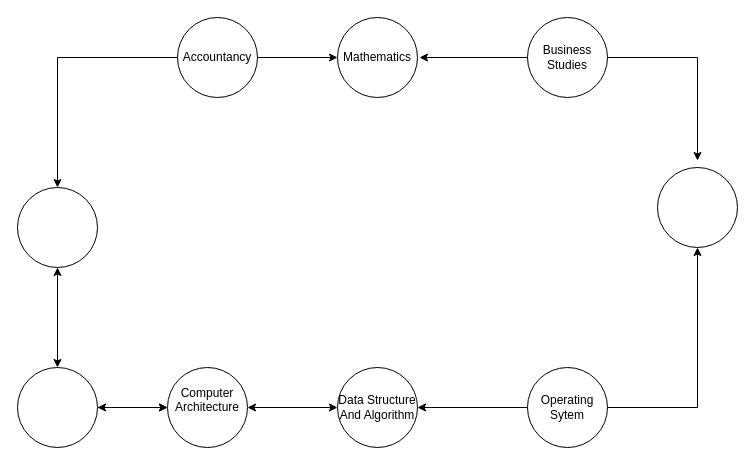
Image size: 755x465. Some labels were removed from this diagram. The centre of each missing label's shape, as x and y in pixels:
"Computer Networks" belongs at (x=57, y=407).
"Programming Language" belongs at (x=57, y=227).
"Statistics" belongs at (x=697, y=207).
